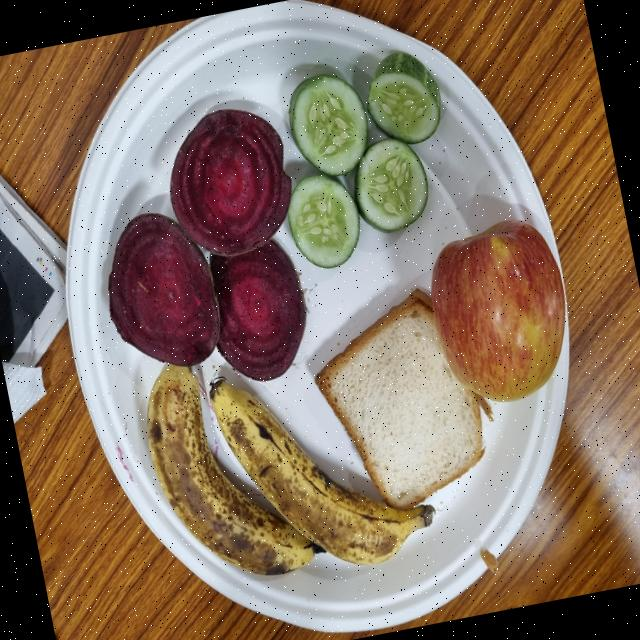apple: (430, 221, 569, 406)
banana: (198, 353, 434, 567), (147, 367, 325, 578)
cucumber: (286, 73, 370, 180), (363, 52, 444, 149), (354, 140, 432, 237), (288, 174, 362, 271)
